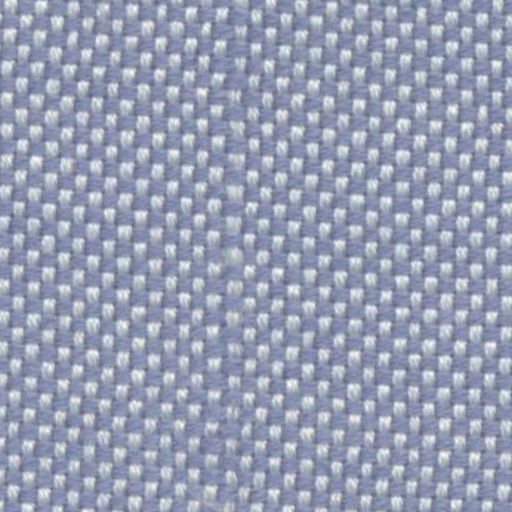TuoSha: (188, 22, 272, 504)
